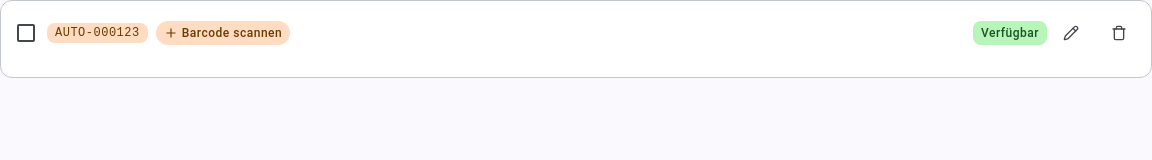
it: Exemplarkarte: abgelehnter Barcode › zeigt nach einem angenommenen Barcode die Nummer und keinen Fehler
Click the button "Barcode scannen": (223, 33) [156, 21, 290, 45]
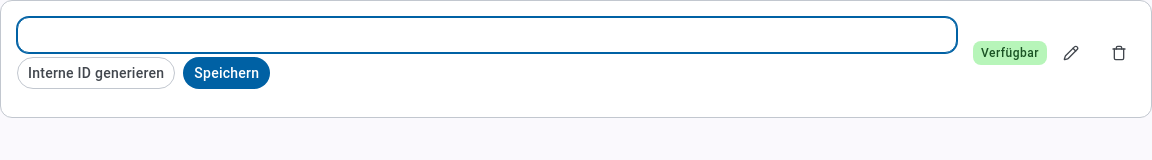
In the field named "Barcode des Exemplars": (487, 35) [17, 17, 957, 53], type "B-0041873"
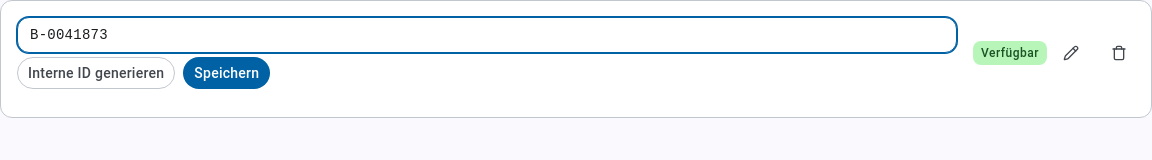
Press Enter in the field named "Barcode des Exemplars", box [17, 17, 957, 53]
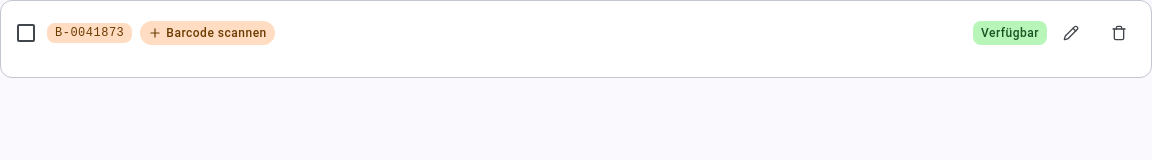
Expected: the text "B-0041873" is shown, [47, 23, 132, 43]
